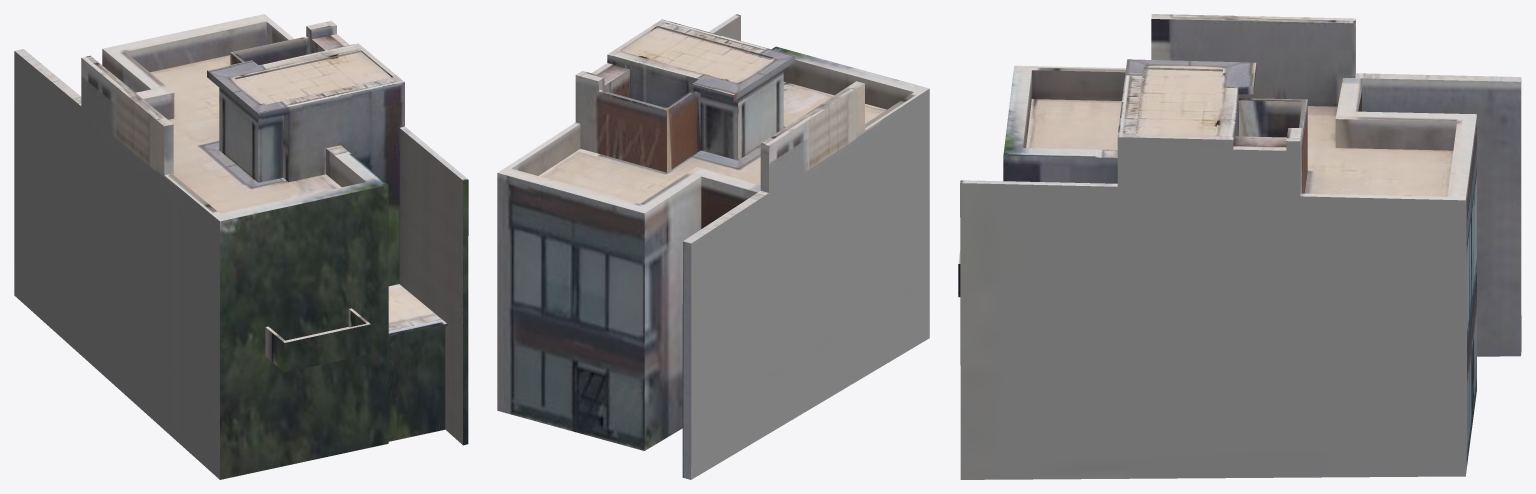
The picture shows the model from 3 angles, left to right: view 1: azimuth 30°, elevation 25°; view 2: azimuth 150°, elevation 25°; view 3: azimuth 270°, elevation 25°; orthographic projection. The views are drawn at different scales.
Visible parts, largest first — view 1: B286024029301062A0; view 2: B286024029301062A0; view 3: B286024029301062A0.
Boxes of the visible parts, x1,y1,x2,y2 form: B286024029301062A0: (14, 14, 468, 479); B286024029301062A0: (497, 14, 929, 479); B286024029301062A0: (958, 14, 1521, 479).
Size of the model in its own units: 9.3 by 11.15 by 16.43.
Materials: 1 (1 with a texture image).
